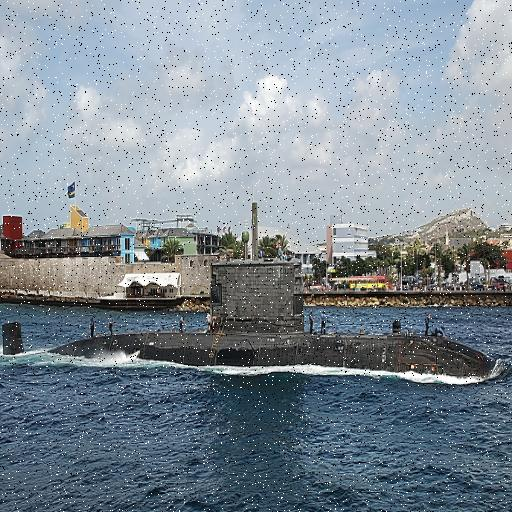submarine: (4, 202, 505, 384)
